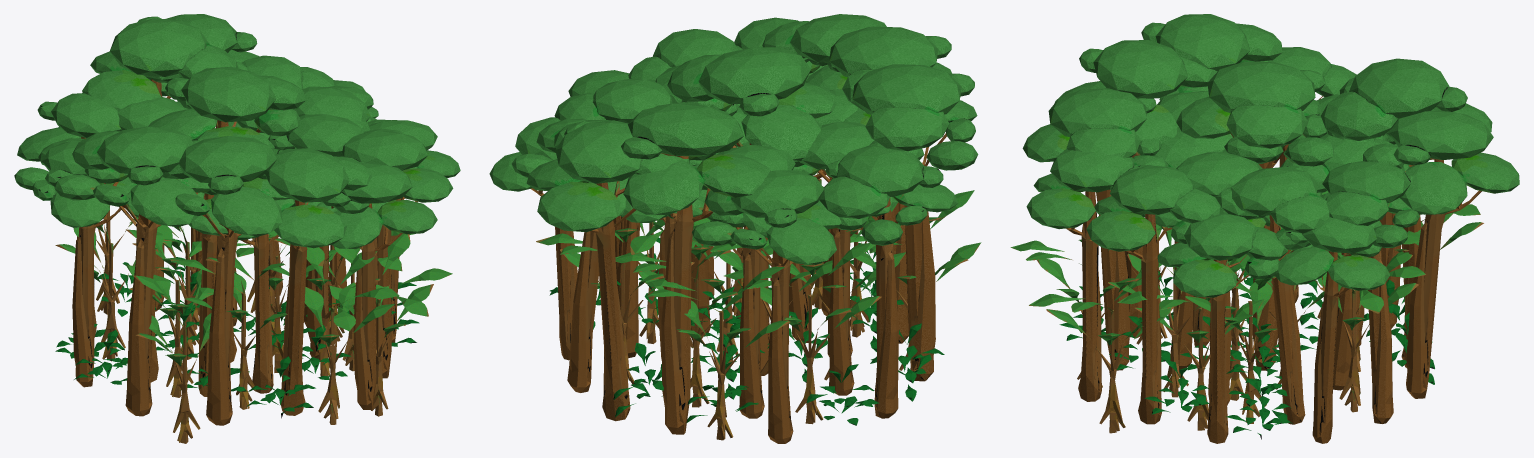
Rendered from RainforestV2Combined.fbx.
3 views of the same model, side by side, from view 1: azimuth 30°, elevation 25°; view 2: azimuth 150°, elevation 25°; view 3: azimuth 270°, elevation 25° (orthographic). The views are drawn at different scales.
Visible parts, largest first — view 1: RainForest; view 2: RainForest; view 3: RainForest.
Boxes of the visible parts, <box> form: RainForest: <box>14,14,460,443</box>; RainForest: <box>489,14,981,443</box>; RainForest: <box>1010,14,1519,443</box>.
Size of the model in its own units: 1.71 by 1.29 by 1.86.
